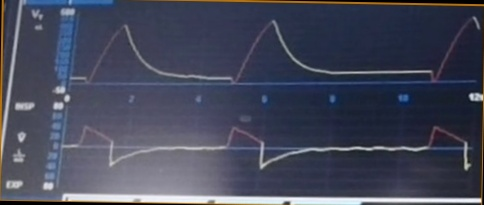Flow: (70, 121, 473, 188)
Leakage Volume: (77, 10, 480, 92)
